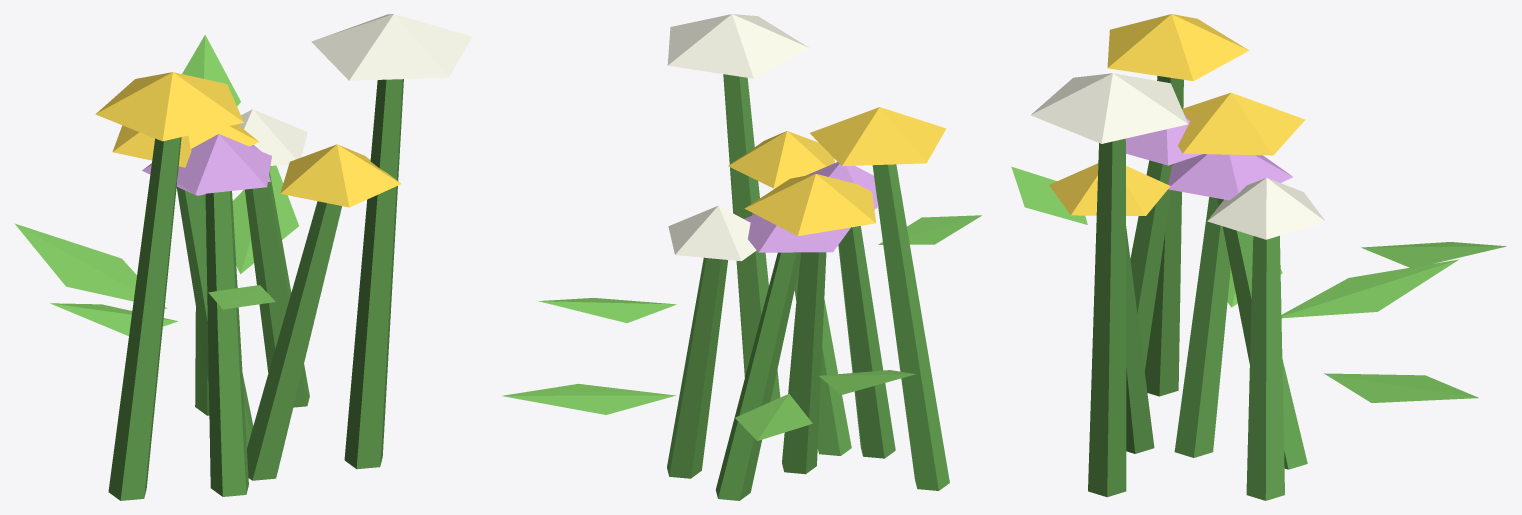
The model's file is Flowers.fbx.
3 renders of one model, left to right at view 1: azimuth 30°, elevation 25°; view 2: azimuth 150°, elevation 25°; view 3: azimuth 270°, elevation 25°, orthographic. The views are drawn at different scales.
Visible parts, largest first — view 1: Flowers; view 2: Flowers; view 3: Flowers.
Part boxes in pixels (bbox=[...]): Flowers: bbox=[14, 14, 472, 500]; Flowers: bbox=[502, 14, 981, 500]; Flowers: bbox=[1011, 14, 1506, 500].
Size of the model in its own units: 34.96 by 42.22 by 44.1.
